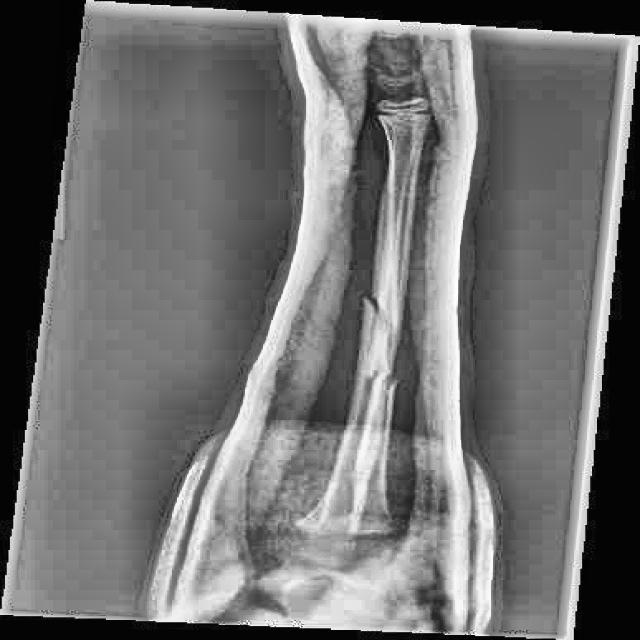forearm fracture: (334, 275, 426, 410)
